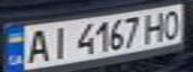1: (90, 18, 112, 53)
4: (72, 20, 96, 56)
6: (109, 16, 127, 52)
7: (121, 14, 145, 47)
A: (21, 27, 54, 64)
H: (139, 9, 169, 43)
I: (45, 24, 72, 60)
O: (160, 7, 187, 40)
